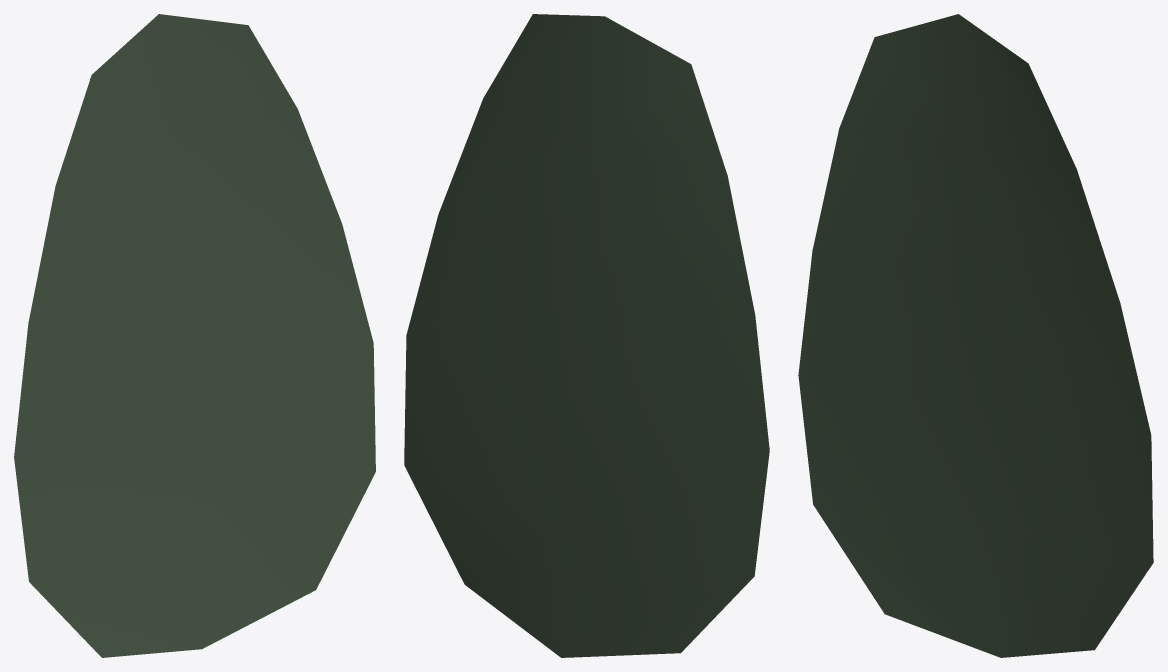
File: duck_feather_flight_tertiary_040.obj
3 views of the same model, side by side, from view 1: azimuth 30°, elevation 25°; view 2: azimuth 150°, elevation 25°; view 3: azimuth 330°, elevation 25° (orthographic). The views are drawn at different scales.
Parts seen in each view (by area): view 1: feather_flight_tertiary_040; view 2: feather_flight_tertiary_040; view 3: feather_flight_tertiary_040.
Part boxes in pixels (bbox=[...]): feather_flight_tertiary_040: bbox=[14, 14, 375, 657]; feather_flight_tertiary_040: bbox=[404, 14, 769, 657]; feather_flight_tertiary_040: bbox=[798, 14, 1153, 657].
Size of the model in its own units: 0.0144 by 0.0245 by 0.000633.
